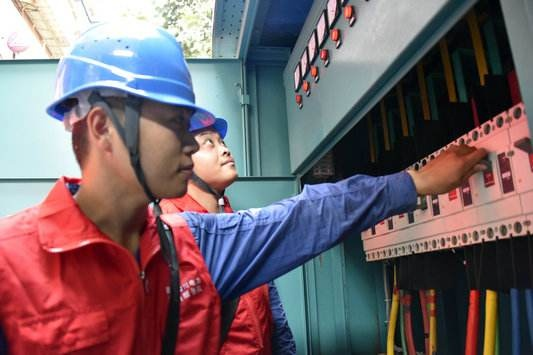blue: (52, 18, 194, 208), (182, 102, 239, 190)
